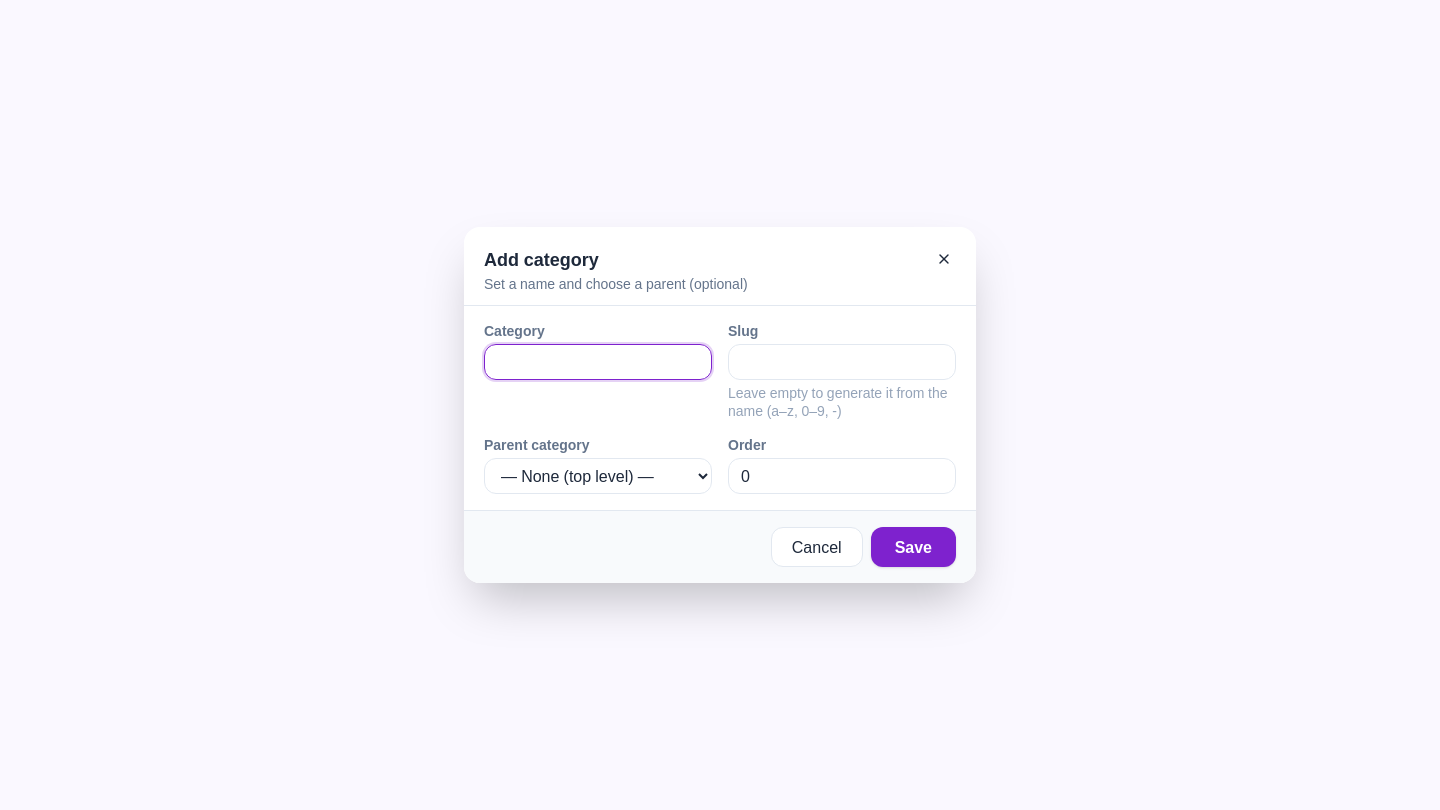
it: CategoryFormDialog › ຊື່ວ່າງ = required; slug ຜິດຮູບແບບ = ຂໍ້ຄວາມ slug; ບໍ່ສົ່ງ API
The width and height of the screenshot is (1440, 810).
Type "Bad Slug!" into the field labelled "Slug" at (842, 362), box [728,344,956,380]
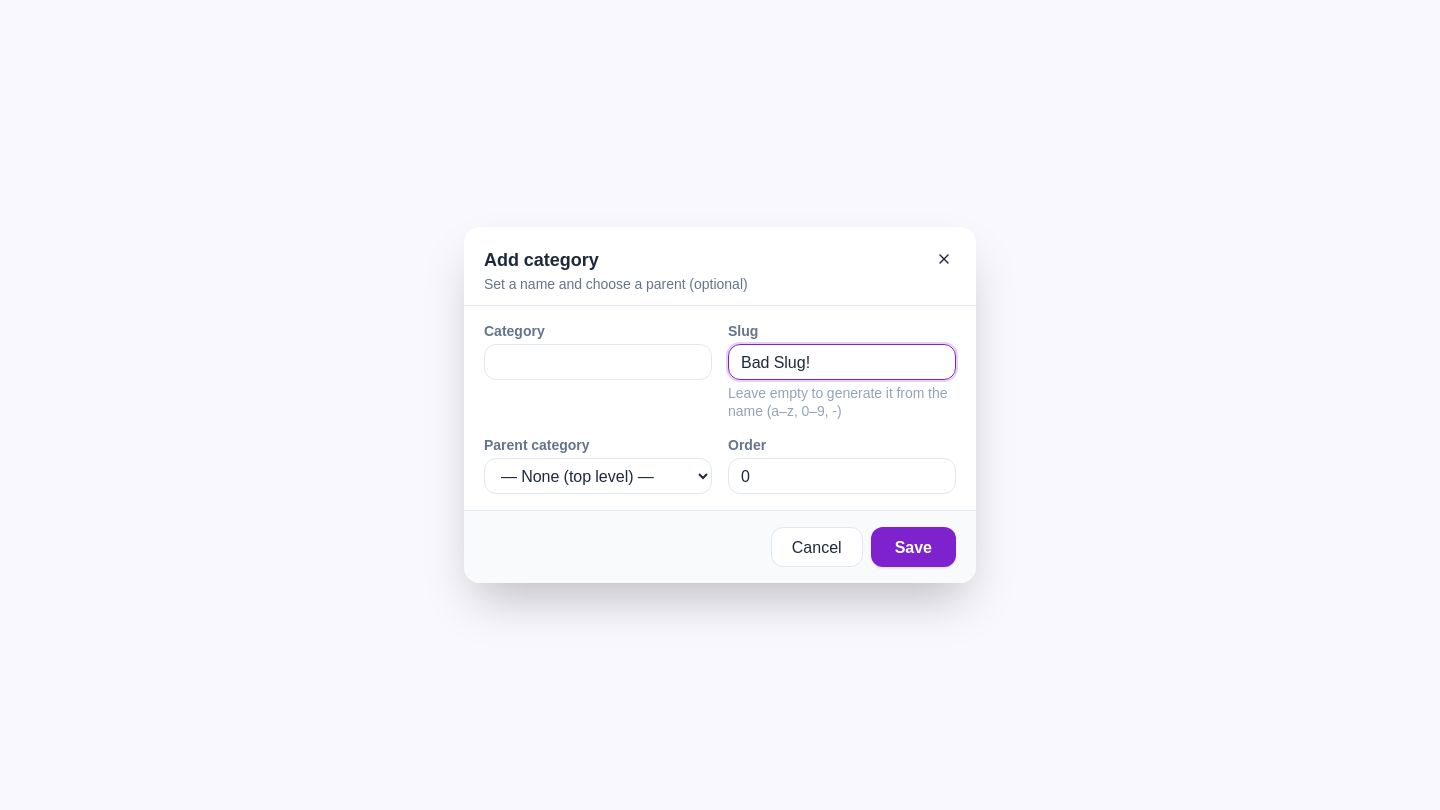
Click the button "Save" at (913, 547), box [871,527,956,567]
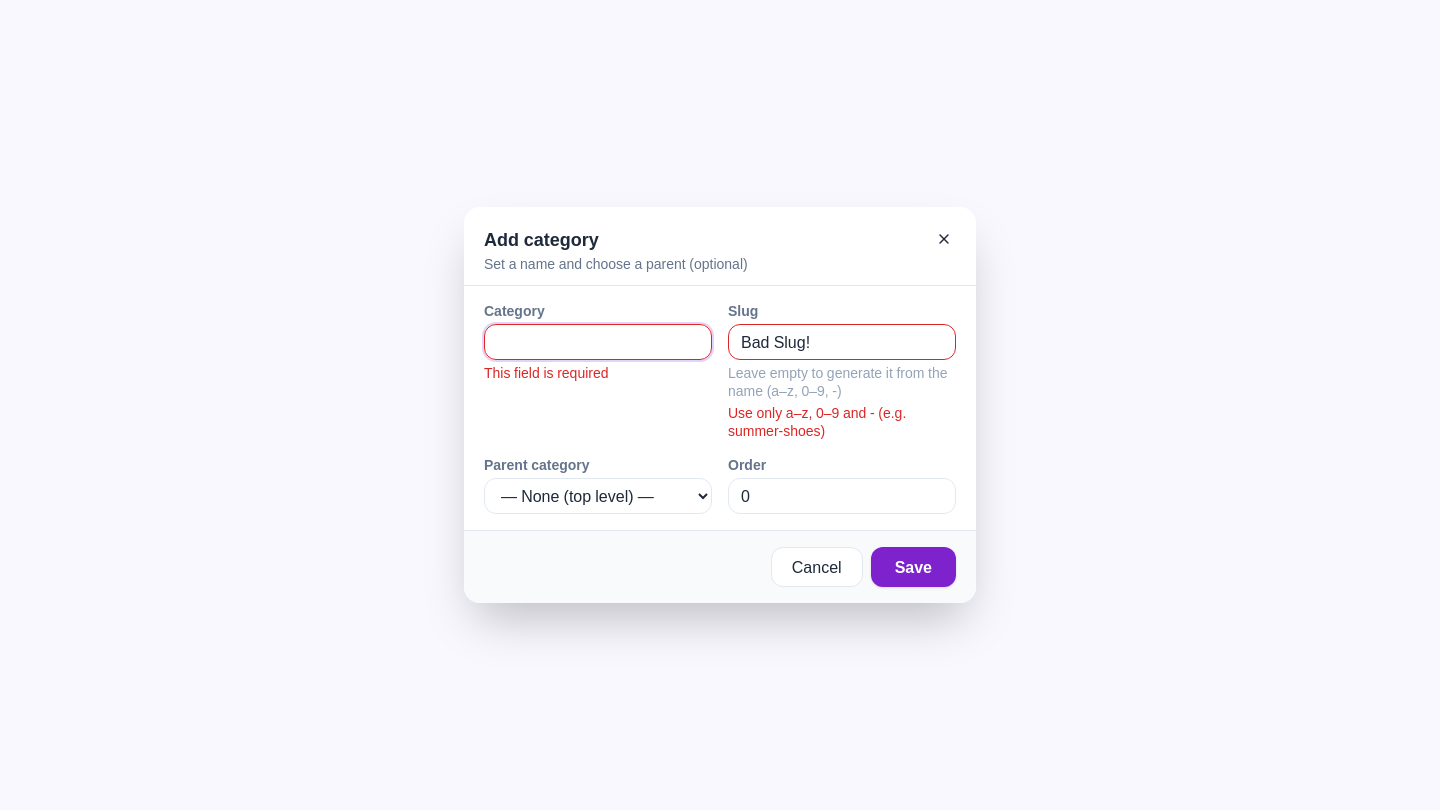
Check: the text "This field is required" is shown, box [484,361,608,384]
Check: the text "Use only a–z, 0–9 and - (e.g. summer-shoes)" is shown, box [728,401,906,442]
